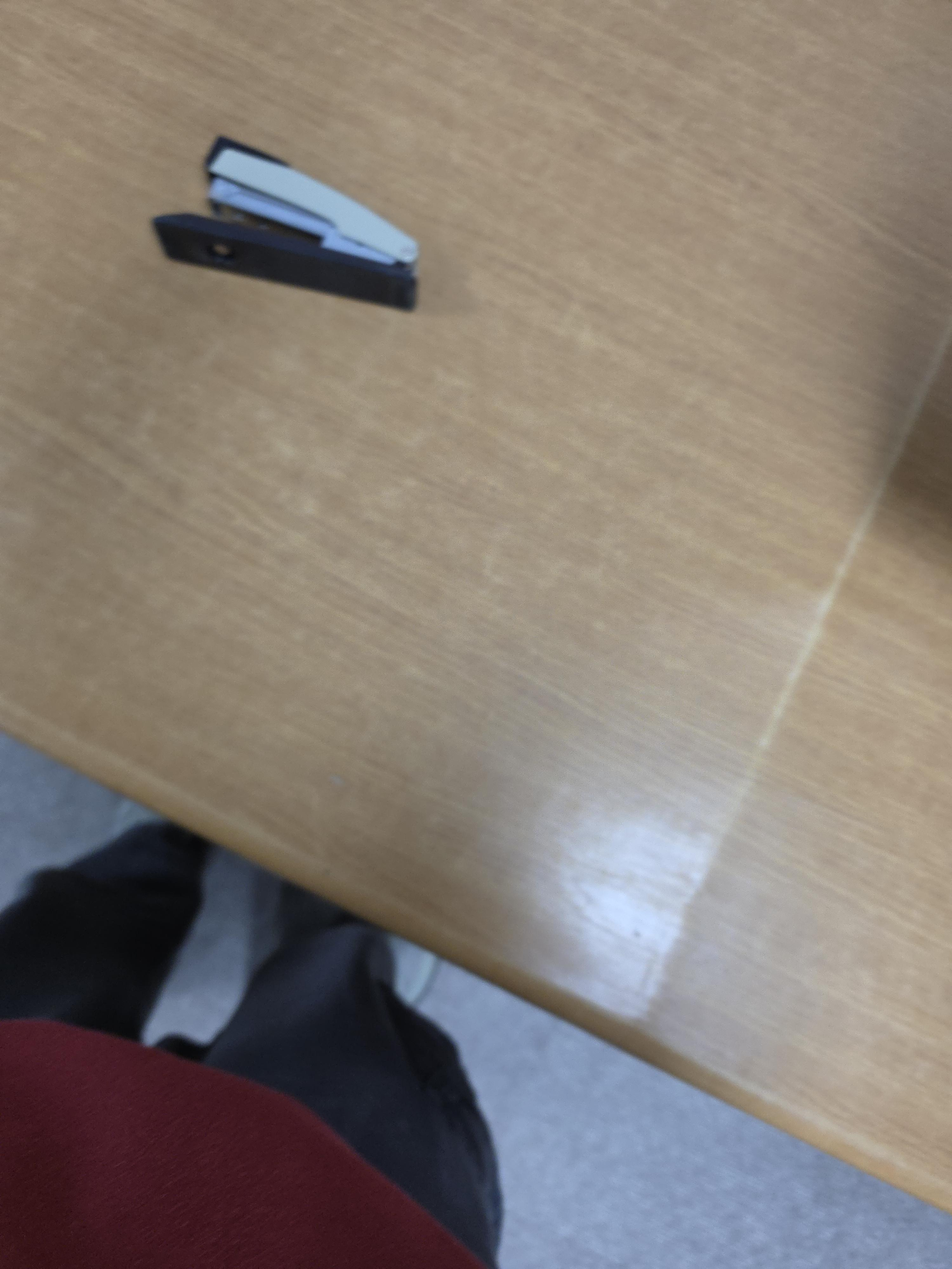stapler: (151, 135, 423, 312)
